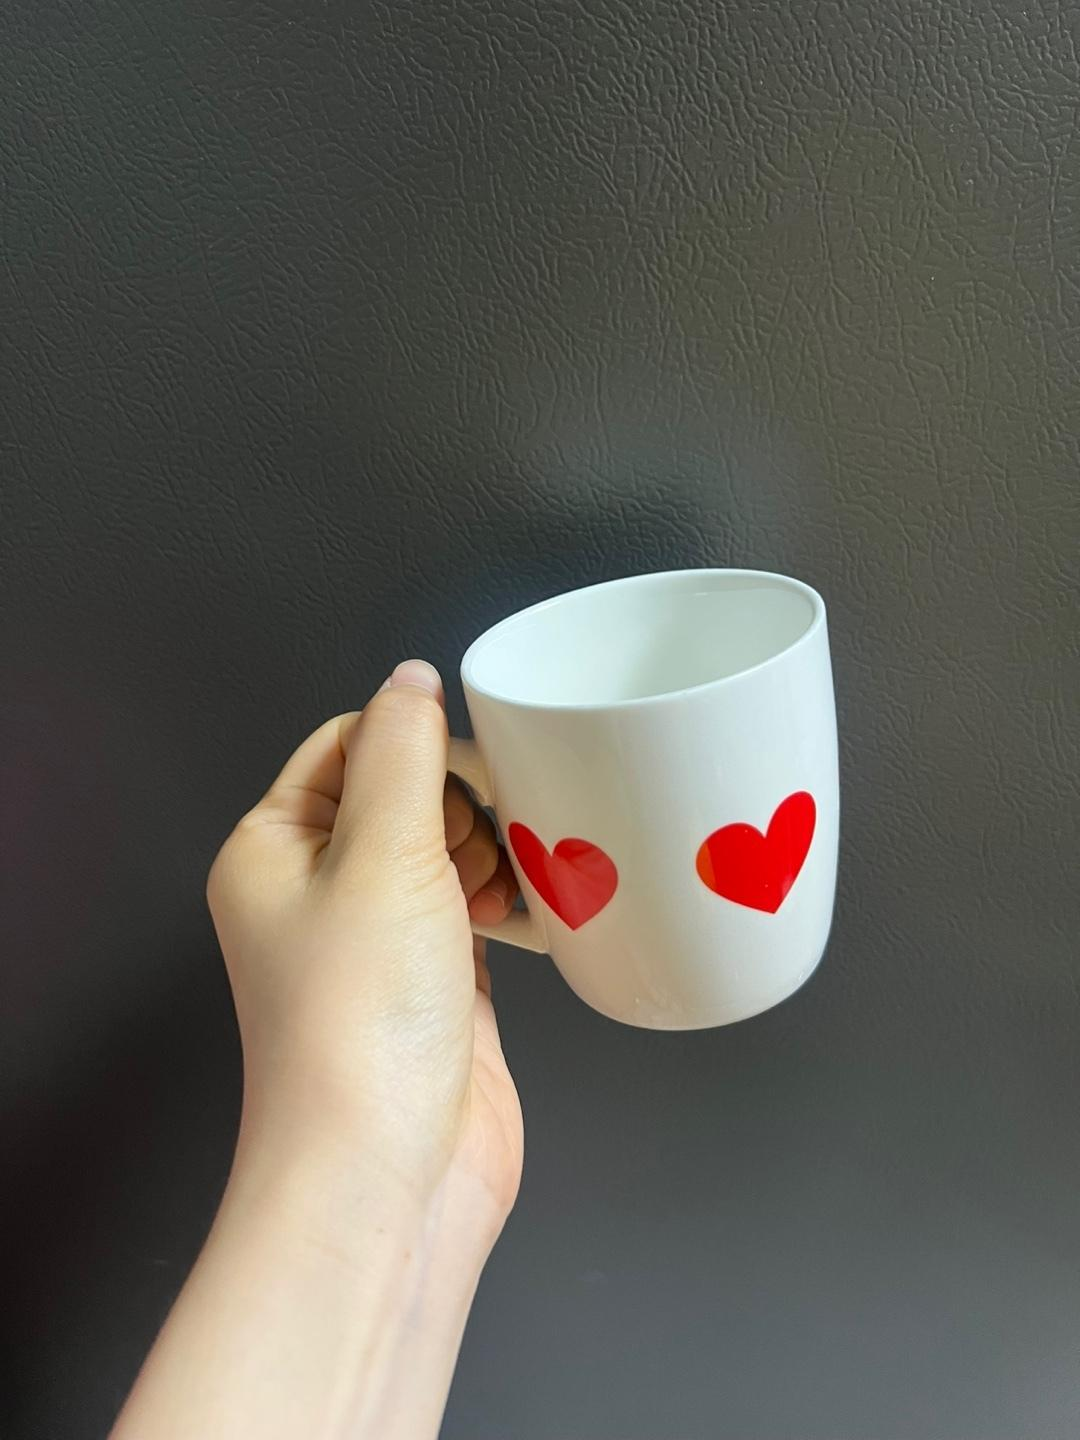cup: (184, 556, 854, 1176)
